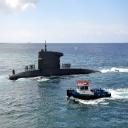submarine: (9, 41, 104, 81)
